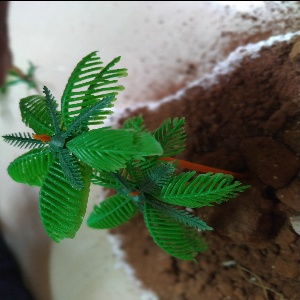plant: (5, 62, 144, 243), (104, 116, 232, 267)
